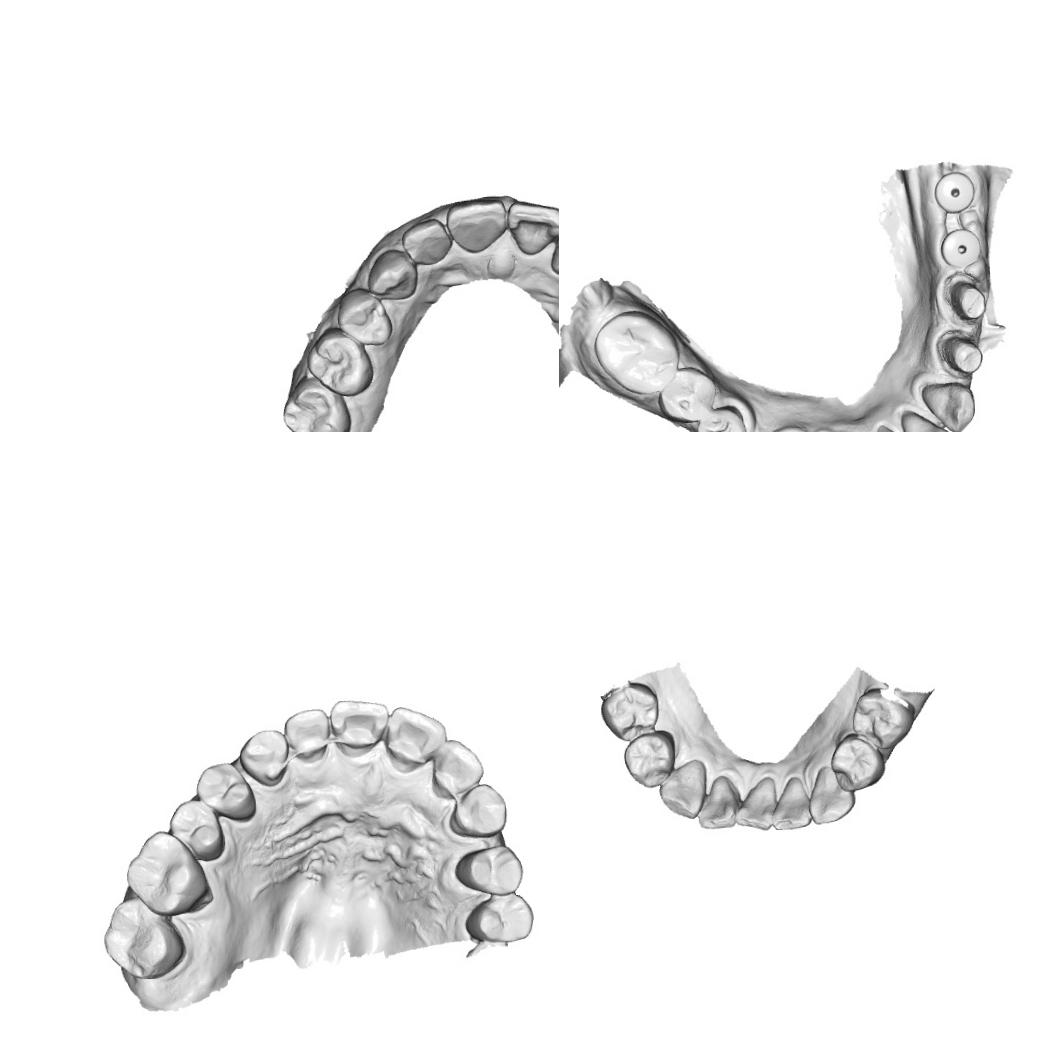canine: (446, 781, 510, 839), (918, 374, 977, 432), (237, 727, 290, 789), (658, 758, 709, 821), (806, 764, 856, 826), (364, 248, 418, 301)
crown: (938, 270, 989, 324), (932, 327, 986, 378)
implant: (936, 225, 985, 272), (932, 170, 978, 216)
incisor: (381, 704, 450, 774), (328, 697, 392, 760), (427, 736, 486, 801), (443, 196, 509, 254), (505, 198, 559, 257), (280, 706, 332, 766), (400, 216, 453, 267), (732, 774, 778, 832), (769, 775, 812, 832), (696, 775, 738, 830), (898, 408, 952, 432)
molar: (592, 308, 682, 404), (122, 826, 210, 920), (100, 893, 188, 983), (303, 324, 376, 399), (279, 371, 354, 432)
premolar: (849, 686, 916, 750), (193, 759, 257, 824), (452, 842, 525, 898), (167, 797, 228, 864), (462, 892, 536, 944), (656, 364, 720, 424), (599, 681, 660, 742), (335, 286, 394, 348), (622, 729, 678, 788), (830, 732, 886, 791), (695, 401, 752, 432)
